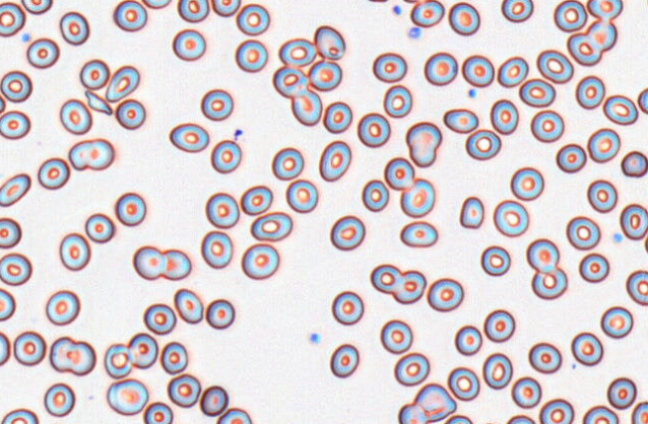PLT: (408, 27, 421, 40), (612, 231, 622, 244), (310, 333, 321, 344), (392, 5, 403, 15), (468, 88, 478, 99), (21, 32, 31, 41)
RBC: (49, 336, 96, 376), (412, 382, 456, 422), (405, 121, 441, 167), (68, 137, 114, 171), (106, 378, 148, 415), (241, 242, 279, 279), (399, 177, 434, 217), (318, 140, 351, 181), (493, 199, 528, 237), (329, 214, 365, 250), (250, 211, 292, 241), (45, 289, 80, 325), (105, 65, 139, 102), (536, 49, 573, 83), (426, 277, 463, 311), (205, 191, 239, 228), (168, 122, 209, 152), (565, 215, 600, 250), (393, 352, 429, 386), (200, 230, 232, 268), (391, 269, 426, 303), (567, 32, 602, 66), (132, 245, 166, 280), (272, 65, 308, 98), (531, 266, 567, 299), (59, 98, 92, 134), (13, 330, 46, 366), (587, 127, 620, 163), (290, 89, 322, 126), (59, 232, 90, 270), (167, 373, 201, 407), (510, 166, 544, 200), (423, 51, 457, 85), (526, 238, 559, 273), (285, 178, 318, 213), (331, 290, 364, 325), (357, 112, 390, 147), (313, 24, 345, 60), (465, 128, 501, 160), (127, 332, 158, 369), (278, 37, 316, 67), (271, 146, 304, 180), (530, 109, 564, 142), (234, 39, 268, 72), (307, 59, 342, 91), (43, 382, 75, 417), (447, 366, 479, 401), (380, 319, 412, 354), (114, 191, 146, 226), (235, 3, 270, 35), (571, 331, 603, 366), (602, 94, 638, 125), (482, 352, 512, 389), (600, 305, 633, 338), (172, 28, 205, 61), (461, 54, 494, 87), (200, 88, 233, 121), (553, 0, 587, 32), (483, 308, 515, 342), (448, 1, 480, 35), (372, 51, 407, 82), (173, 288, 203, 324), (518, 78, 555, 107), (619, 203, 648, 240), (0, 252, 32, 285), (37, 157, 70, 189), (528, 341, 561, 373), (383, 156, 414, 190), (0, 172, 31, 206), (113, 0, 147, 31), (210, 139, 241, 173), (586, 179, 617, 213), (329, 343, 359, 378), (489, 98, 518, 134), (399, 220, 437, 247), (0, 70, 32, 102), (143, 303, 176, 334), (606, 376, 637, 409), (26, 37, 59, 68), (240, 184, 273, 215), (59, 11, 89, 45), (575, 75, 605, 109), (586, 19, 617, 51), (160, 248, 191, 280), (322, 100, 352, 133), (383, 84, 412, 118), (104, 343, 132, 378), (84, 212, 115, 243), (497, 56, 528, 87), (578, 252, 609, 283), (511, 376, 541, 408), (79, 58, 109, 90), (370, 263, 401, 293), (205, 298, 235, 329), (115, 98, 145, 129), (480, 245, 510, 276), (555, 143, 586, 173), (199, 384, 228, 416), (160, 341, 188, 374), (361, 179, 389, 212), (410, 0, 444, 27), (539, 398, 574, 424), (443, 107, 478, 133), (0, 109, 30, 139), (0, 1, 25, 36), (454, 324, 482, 355), (625, 269, 648, 305), (459, 195, 484, 228), (586, 0, 623, 21), (620, 150, 648, 177), (501, 0, 533, 22), (177, 0, 209, 22), (582, 405, 619, 424), (143, 401, 173, 424), (0, 216, 21, 248), (397, 403, 427, 424), (0, 408, 38, 424), (215, 407, 252, 423), (0, 287, 15, 321), (210, 0, 241, 16), (20, 0, 52, 14), (631, 401, 648, 423), (0, 330, 10, 366), (505, 414, 536, 424), (637, 86, 648, 114), (443, 414, 473, 424), (141, 0, 172, 9), (0, 94, 6, 114), (644, 227, 648, 256), (400, 0, 430, 3), (475, 421, 504, 424), (364, 0, 390, 2), (644, 0, 648, 11)
Schistocyte: (84, 88, 113, 117)
